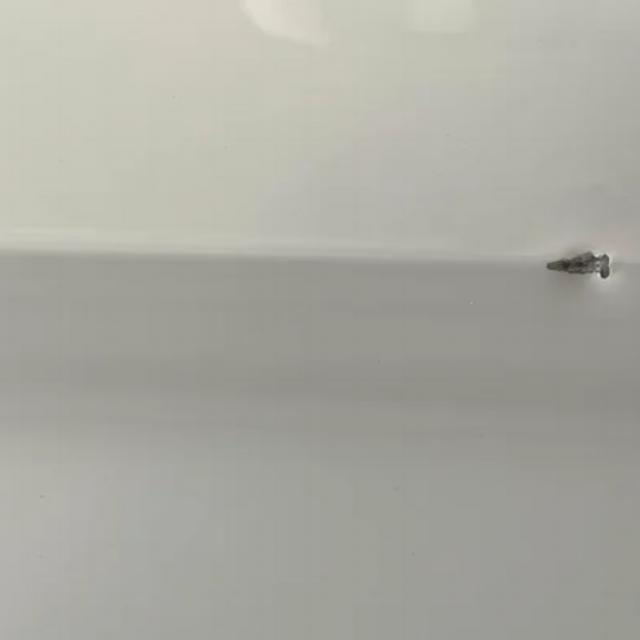dents: (518, 227, 640, 307)
